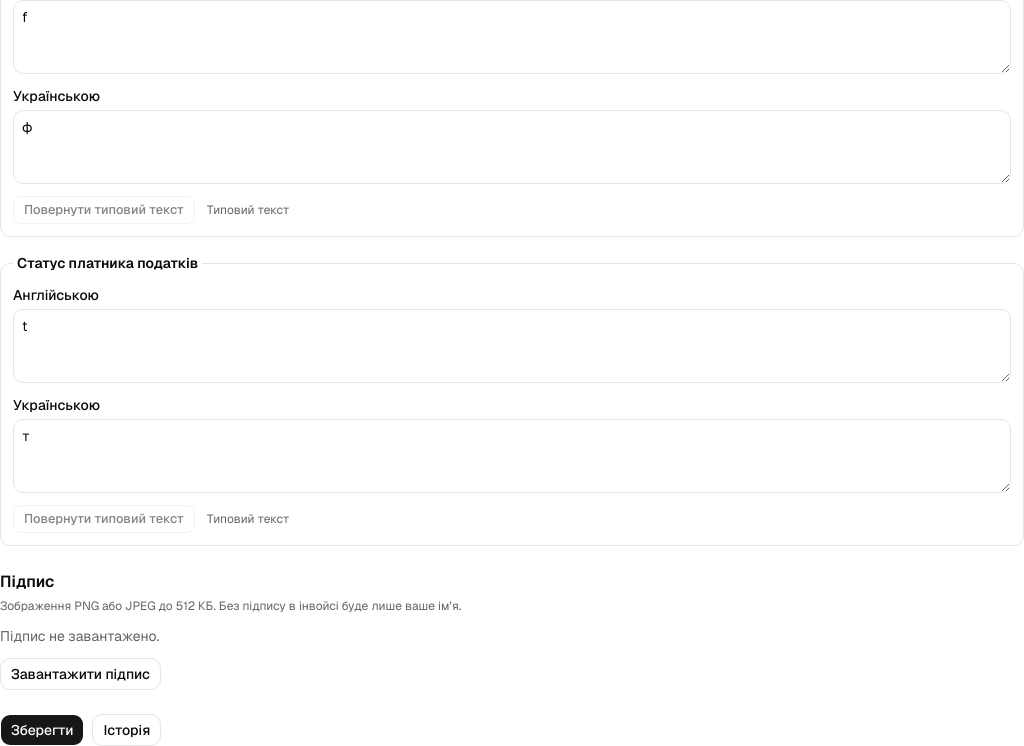
InvoicingForm rejection › words an IBAN, a SWIFT code and a tax number by their codes under the right field
(page scrolled)
Click the button "Зберегти" at (42, 730), box [0, 714, 84, 745]
(page scrolled)
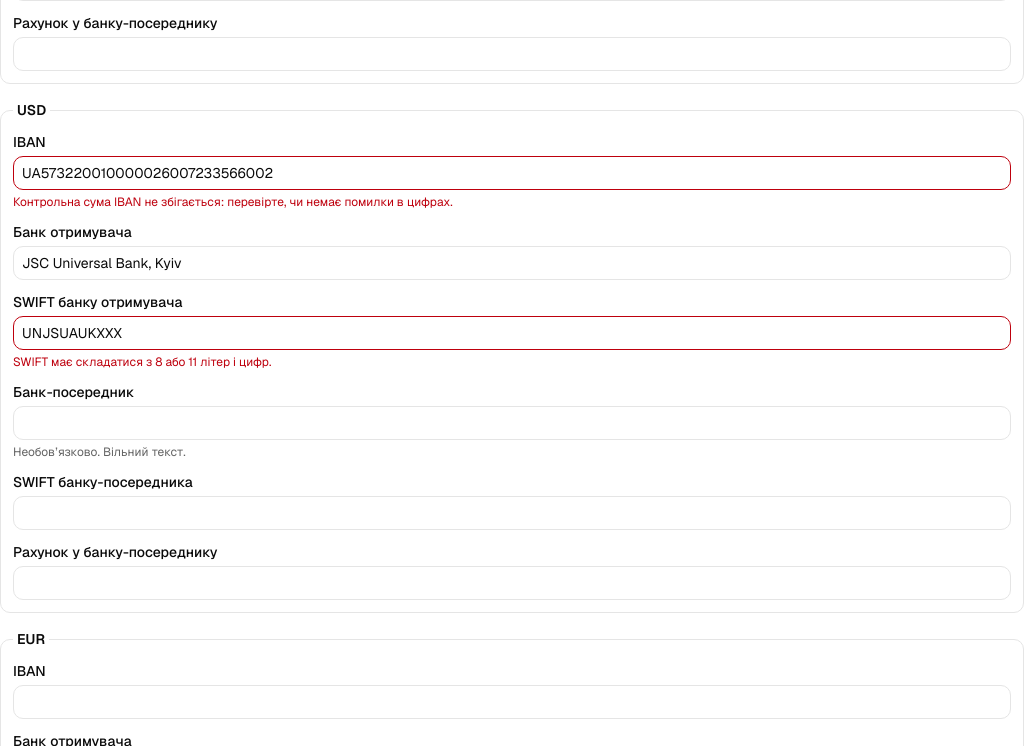
Now the text "Контрольна сума IBAN не збігається: перевірте, чи немає помилки в цифрах." is shown, box [13, 194, 453, 210]
Now the text "SWIFT має складатися з 8 або 11 літер і цифр." is shown, box [13, 354, 271, 370]
